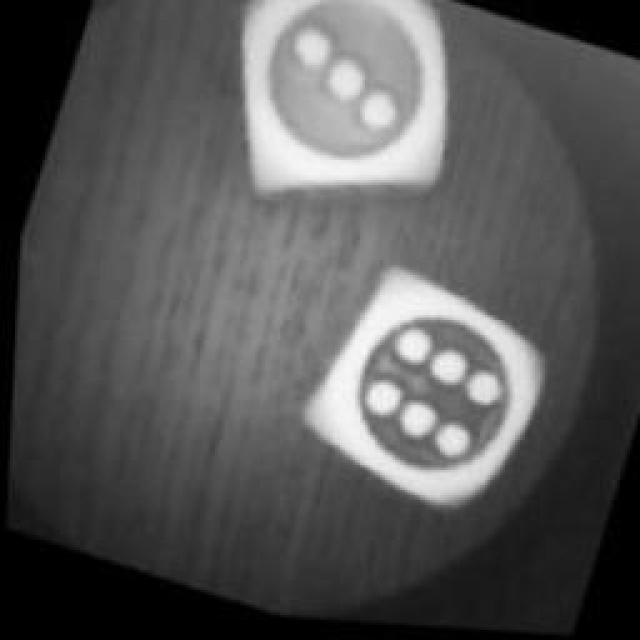dice_3: (187, 0, 492, 252)
dice_6: (275, 244, 570, 538)
